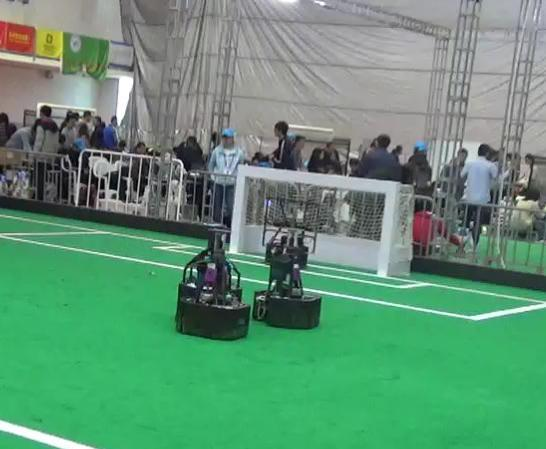robot: (163, 216, 256, 344), (255, 223, 323, 332)
